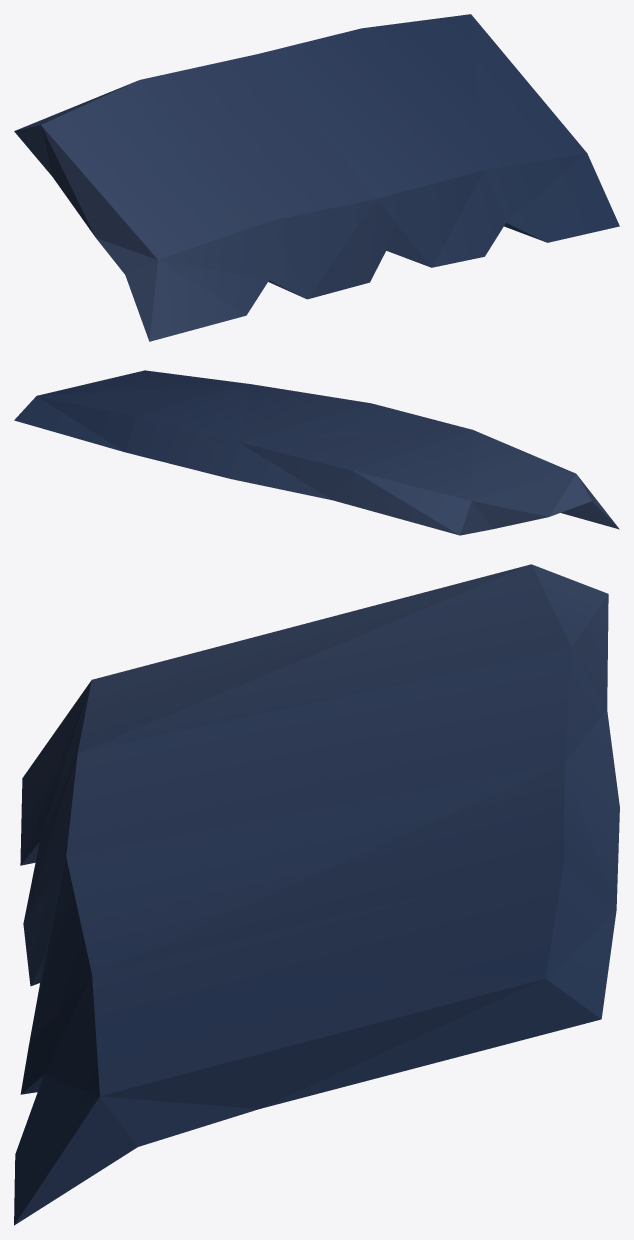
Rendered from MarketStall_Roof_Blue.gltf.
3 views of the same model, one above another, from view 1: azimuth 30°, elevation 25°; view 2: azimuth 150°, elevation 25°; view 3: azimuth 270°, elevation 25° (orthographic). The views are drawn at different scales.
Parts seen in each view (by area): view 1: MarketStall_Roof_Blue; view 2: MarketStall_Roof_Blue; view 3: MarketStall_Roof_Blue.
Boxes of the visible parts, x1,y1,x2,y2 form: MarketStall_Roof_Blue: [14, 14, 619, 341]; MarketStall_Roof_Blue: [14, 370, 619, 535]; MarketStall_Roof_Blue: [14, 564, 619, 1225].
Size of the model in its own units: 3.04 by 0.8 by 1.72.
Materials: 1 (1 with a texture image).
